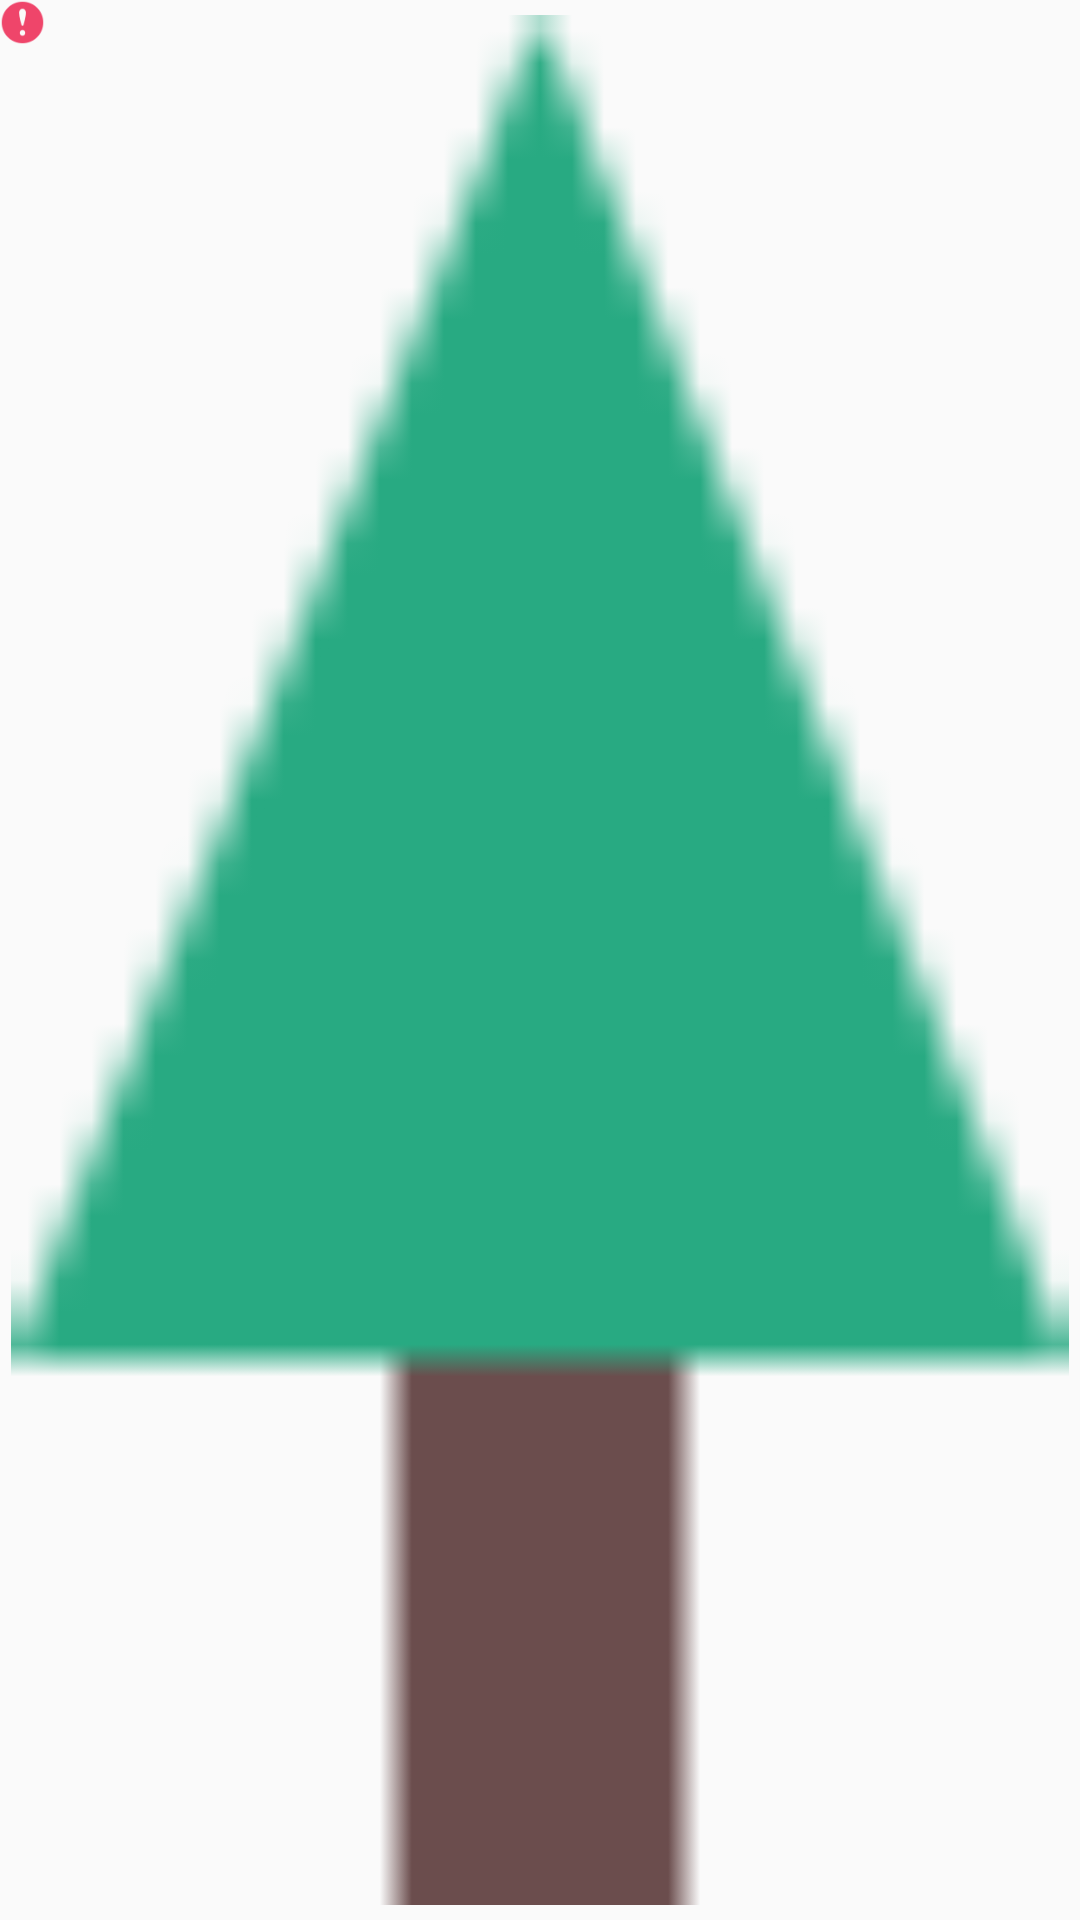

Icon bounding boxes for this 1080 × 1920 phone screenshot, format {"x1": x1, "y1": y1, "x2": x2, "y2": y2}:
exclamation: {"x1": 1, "y1": 1, "x2": 44, "y2": 44}
